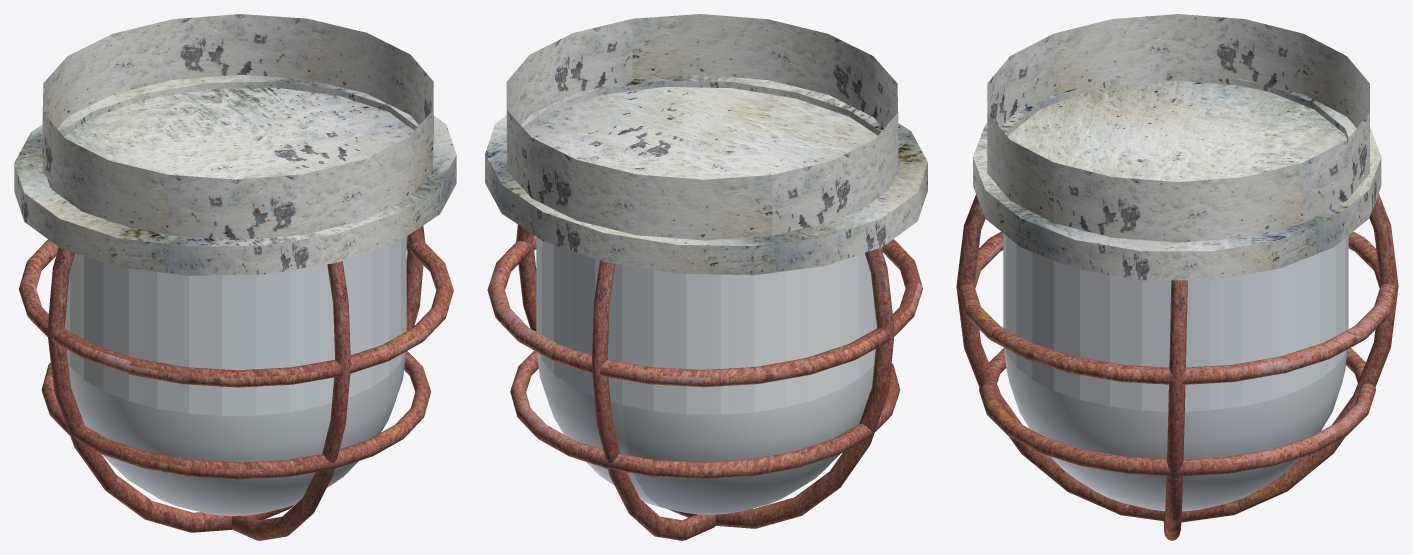
File: light.FBX
3 views of the same model, side by side, from view 1: azimuth 30°, elevation 25°; view 2: azimuth 150°, elevation 25°; view 3: azimuth 270°, elevation 25° (orthographic).
Visible parts, largest first — view 1: Cylinder001, Sphere001, Tube001, Torus002, Torus004, Torus001, Torus005; view 2: Cylinder001, Sphere001, Tube001, Torus002, Torus001, Torus004, Torus005; view 3: Cylinder001, Sphere001, Tube001, Torus005, Torus002, Torus001, Torus004.
Part boxes in pixels (x1,y1,x2,y2): Cylinder001: [42, 14, 433, 240]; Sphere001: [64, 236, 406, 515]; Tube001: [14, 74, 456, 275]; Torus002: [19, 236, 453, 387]; Torus004: [47, 226, 425, 532]; Torus001: [41, 351, 430, 479]; Torus005: [231, 261, 350, 540]; Cylinder001: [506, 14, 898, 240]; Sphere001: [536, 237, 882, 514]; Tube001: [485, 75, 927, 275]; Torus002: [487, 235, 922, 387]; Torus001: [510, 350, 900, 479]; Torus004: [516, 224, 894, 528]; Torus005: [591, 260, 716, 540]; Cylinder001: [987, 14, 1369, 242]; Sphere001: [1003, 233, 1348, 511]; Tube001: [973, 79, 1381, 280]; Torus005: [956, 193, 1398, 522]; Torus002: [958, 231, 1396, 384]; Torus001: [979, 347, 1375, 476]; Torus004: [1163, 280, 1187, 540].
Size of the model in its own units: 129 by 137 by 128.
Materials: 3 (3 with a texture image).
